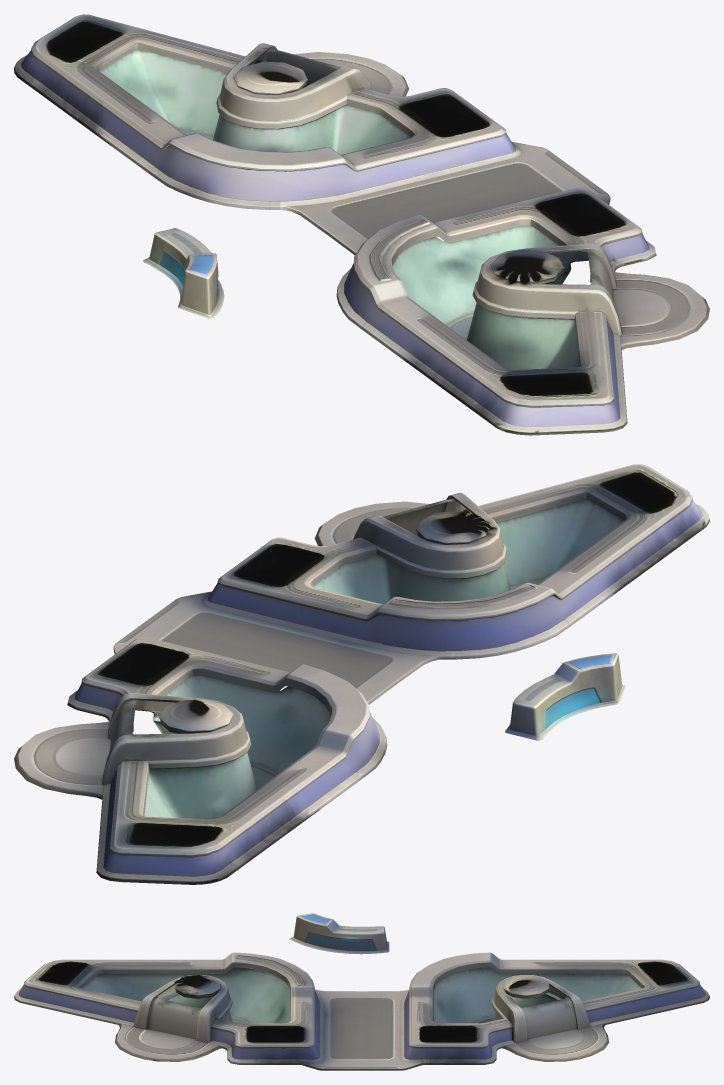
Rendered from pref_sm_beach_bk_waterblock_L01_lv2.fbx.
3 views of the same model, one above another, from view 1: azimuth 30°, elevation 25°; view 2: azimuth 150°, elevation 25°; view 3: azimuth 270°, elevation 25° (orthographic). The views are drawn at different scales.
Visible parts, largest first — view 1: sm_beach_bk_waterblock_L01_lv2, sm_beach_bk_waterblock_L01c_lv2; view 2: sm_beach_bk_waterblock_L01_lv2, sm_beach_bk_waterblock_L01c_lv2; view 3: sm_beach_bk_waterblock_L01_lv2, sm_beach_bk_waterblock_L01c_lv2.
Boxes of the visible parts, x1,y1,x2,y2 form: sm_beach_bk_waterblock_L01_lv2: (14,14,709,435); sm_beach_bk_waterblock_L01c_lv2: (143,228,224,319); sm_beach_bk_waterblock_L01_lv2: (14,464,709,884); sm_beach_bk_waterblock_L01c_lv2: (505,653,626,740); sm_beach_bk_waterblock_L01_lv2: (14,952,709,1070); sm_beach_bk_waterblock_L01c_lv2: (289,913,389,954).
Bounding box in the file's own units: 20.75 × 3.9 × 44.8.
